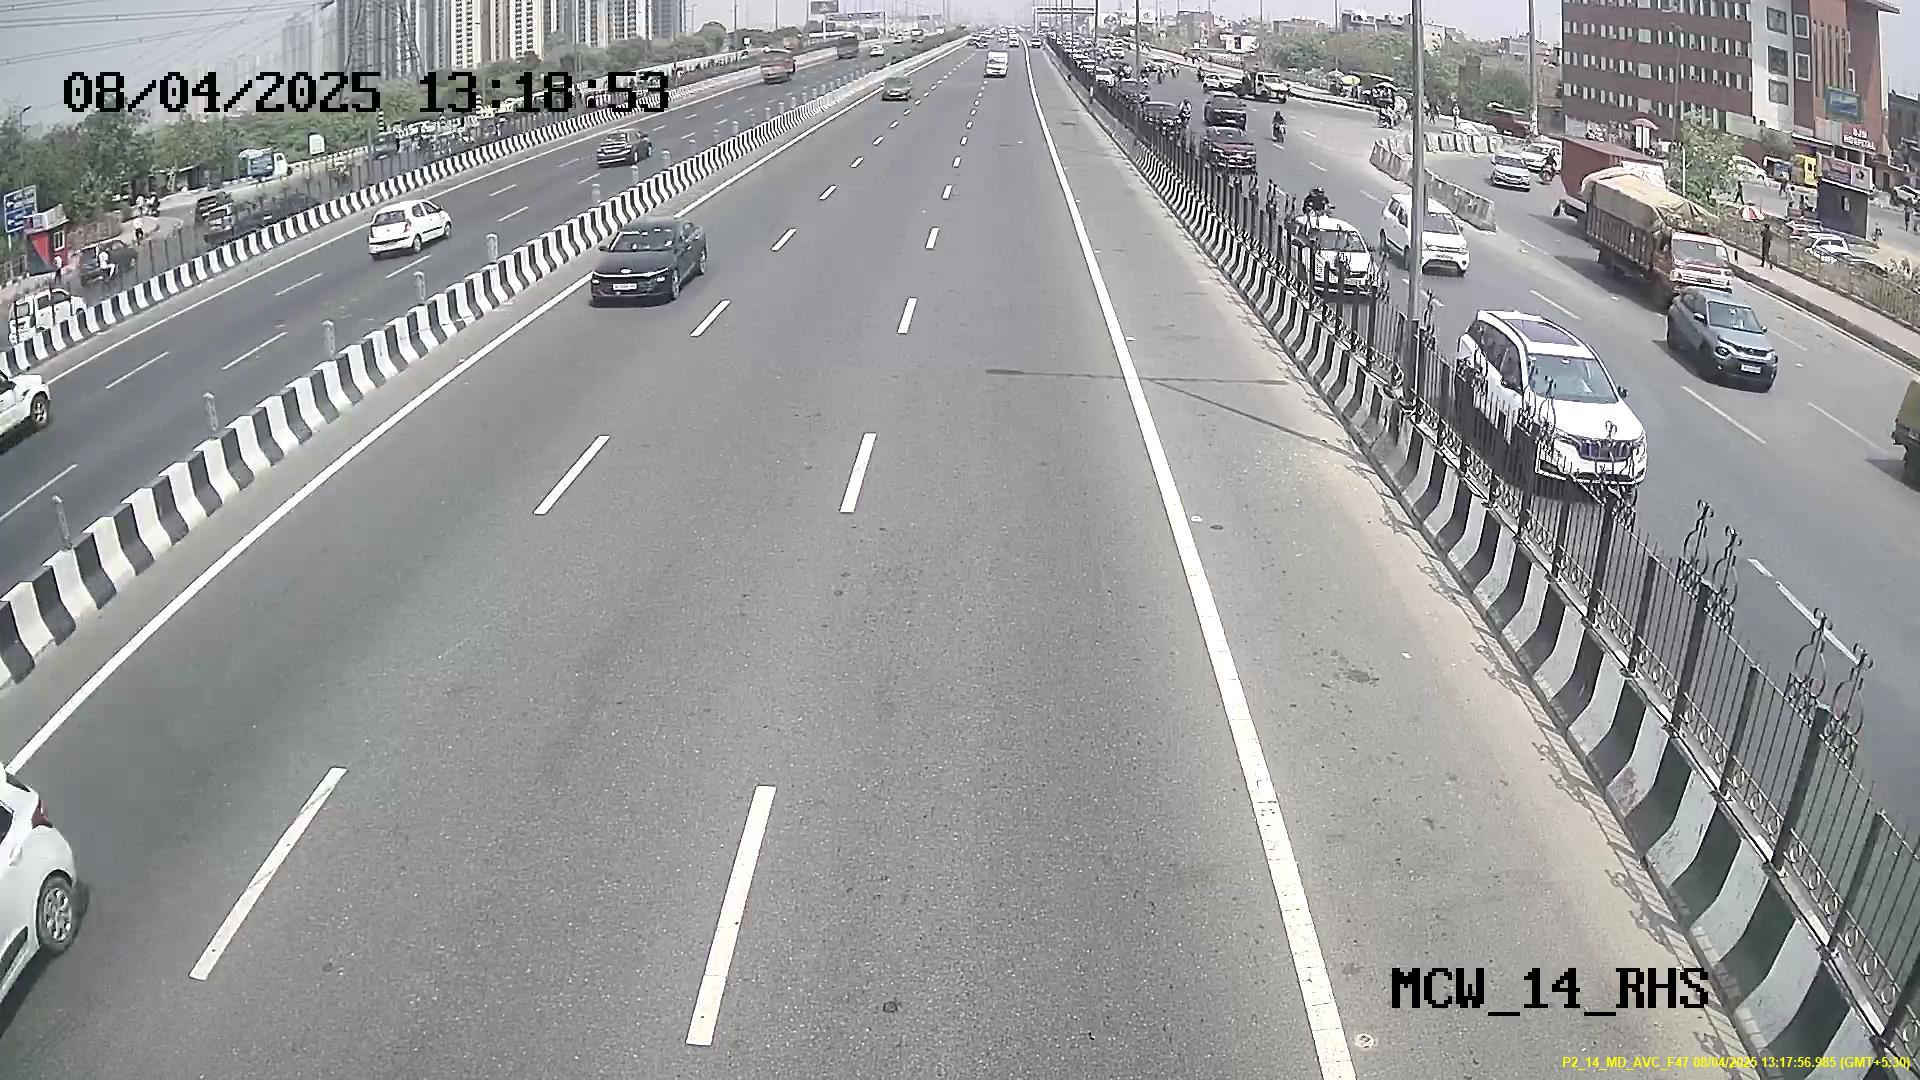car: (589, 204, 705, 309)
